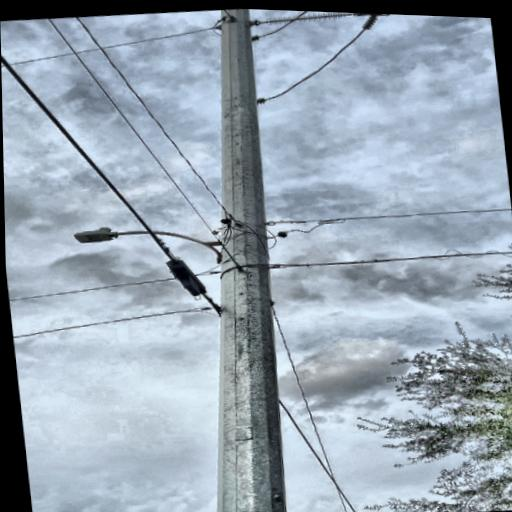pole: (134, 5, 314, 512)
street light: (66, 214, 228, 278)
